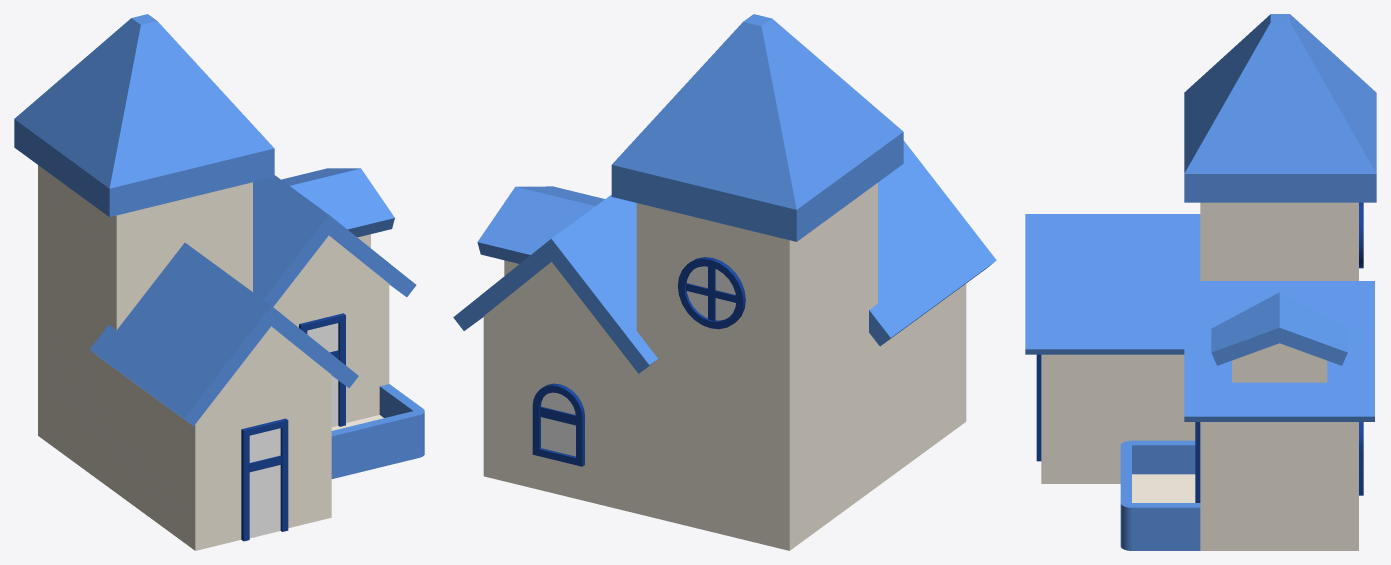
Rendered from M1_House05.fbx.
3 renders of one model, left to right at view 1: azimuth 30°, elevation 25°; view 2: azimuth 150°, elevation 25°; view 3: azimuth 270°, elevation 25°, orthographic. The views are drawn at different scales.
Parts seen in each view (by area): view 1: mergedBlocks; view 2: mergedBlocks; view 3: mergedBlocks.
Part boxes in pixels (box(x1,y1,x2,y2)): mergedBlocks: box(14, 14, 424, 550); mergedBlocks: box(453, 14, 996, 550); mergedBlocks: box(1025, 14, 1376, 550).
Bounding box in the file's own units: 22.83 × 30 × 22.1.
